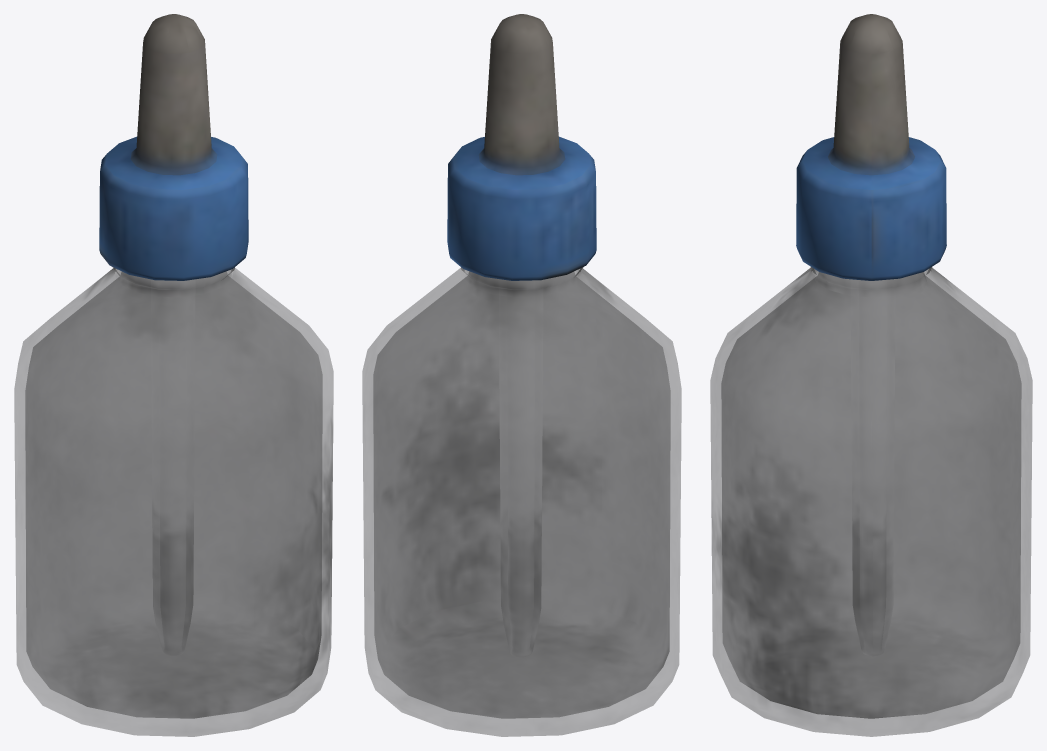
The model's file is bottle_clear_e.glb.
3 views of the same model, side by side, from view 1: azimuth 30°, elevation 25°; view 2: azimuth 150°, elevation 25°; view 3: azimuth 270°, elevation 25° (orthographic).
Parts seen in each view (by area): view 1: chemistry_set_bottle_clear_e.001, chemistry_set_bottle_clear_e_dropper.001; view 2: chemistry_set_bottle_clear_e.001, chemistry_set_bottle_clear_e_dropper.001; view 3: chemistry_set_bottle_clear_e.001, chemistry_set_bottle_clear_e_dropper.001.
Boxes of the visible parts, box(x1,y1,x2,y2) form: chemistry_set_bottle_clear_e.001: box(14, 267, 333, 736); chemistry_set_bottle_clear_e_dropper.001: box(99, 14, 248, 655); chemistry_set_bottle_clear_e.001: box(362, 267, 681, 736); chemistry_set_bottle_clear_e_dropper.001: box(447, 14, 596, 656); chemistry_set_bottle_clear_e.001: box(710, 267, 1032, 736); chemistry_set_bottle_clear_e_dropper.001: box(796, 14, 946, 655).
Size of the model in its own units: 0.0498 by 0.1135 by 0.0498.
2 materials, 2 textured.
